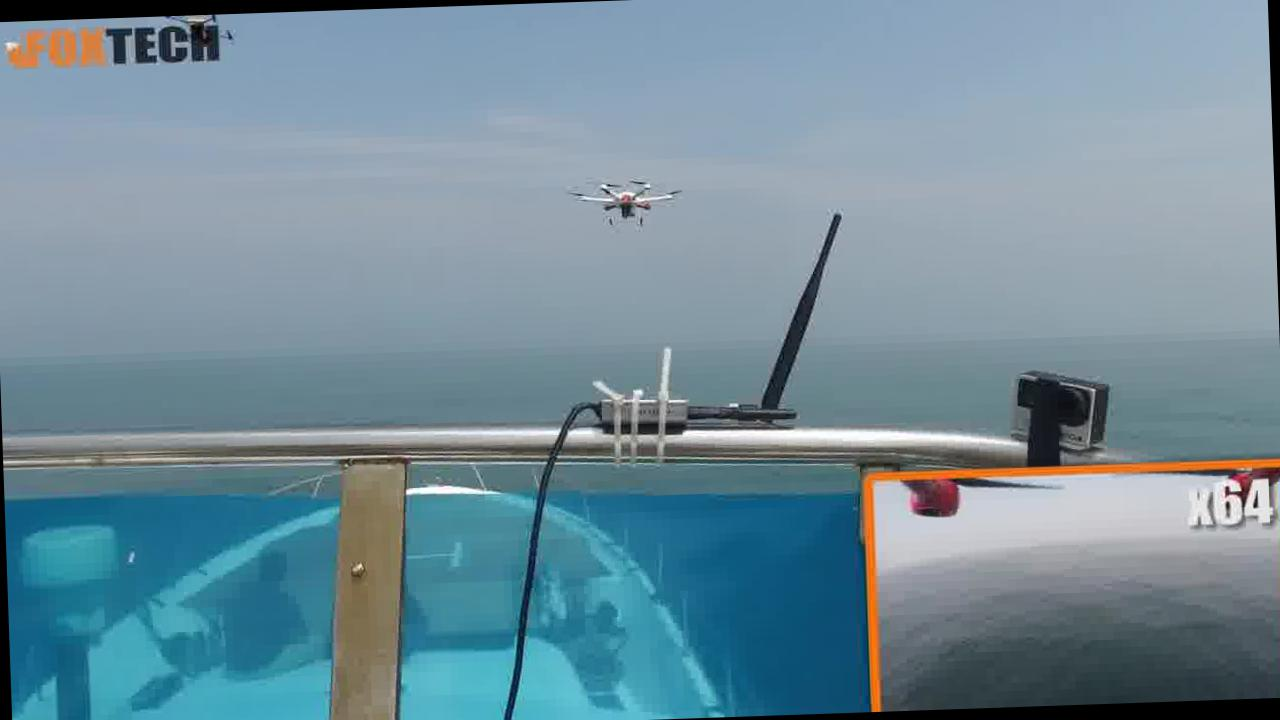drone: (570, 170, 696, 239)
